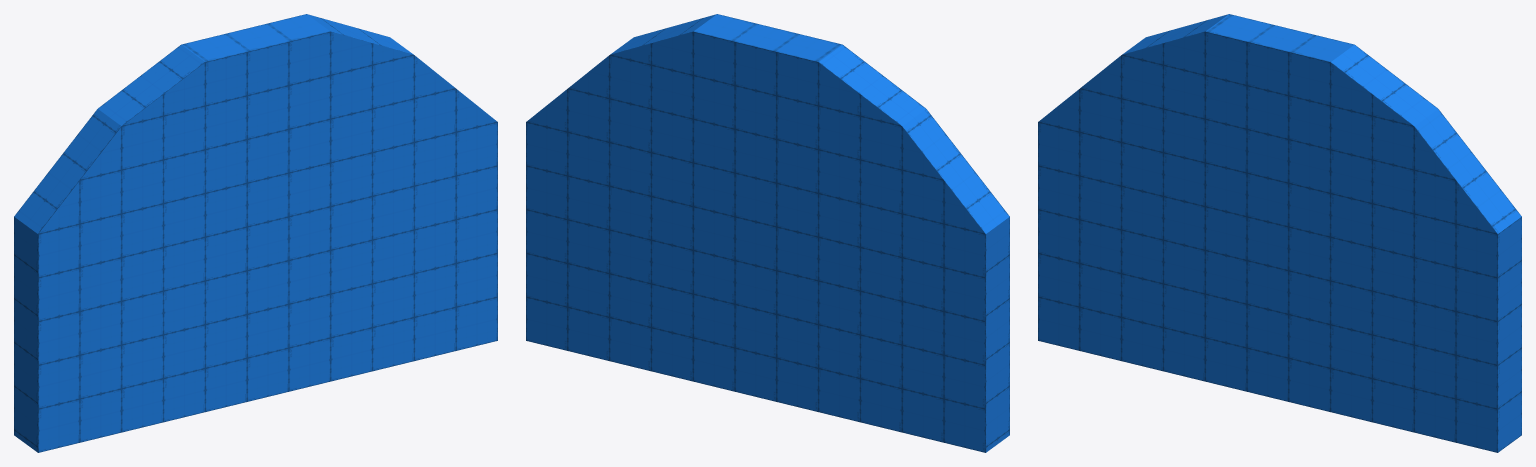
3 views of the same model, side by side, from view 1: azimuth 30°, elevation 25°; view 2: azimuth 150°, elevation 25°; view 3: azimuth 330°, elevation 25° (orthographic).
Parts seen in each view (by area): view 1: ProBuilderBlue Mesh (1); view 2: ProBuilderBlue Mesh (1); view 3: ProBuilderBlue Mesh (1).
Part boxes in pixels (x1,y1,x2,y2): ProBuilderBlue Mesh (1): [14, 14, 497, 452]; ProBuilderBlue Mesh (1): [526, 14, 1009, 452]; ProBuilderBlue Mesh (1): [1038, 14, 1521, 452].
Size of the model in its own units: 11 by 8 by 1.
